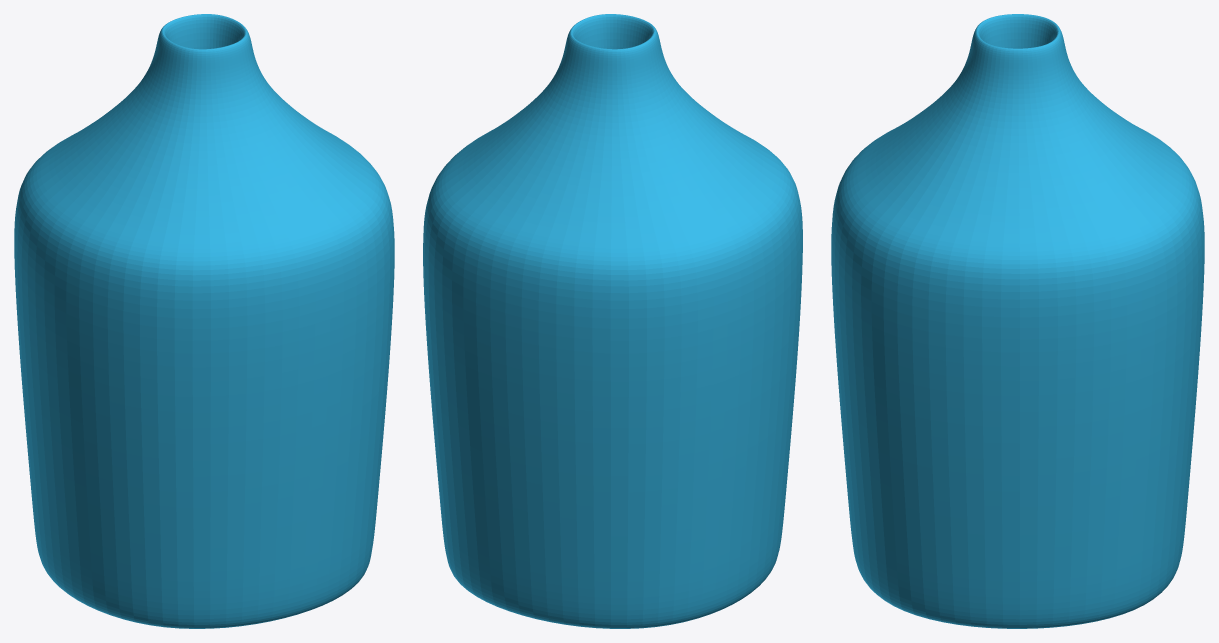
The model's file is jarra agua.fbx.
3 renders of one model, left to right at view 1: azimuth 30°, elevation 25°; view 2: azimuth 150°, elevation 25°; view 3: azimuth 270°, elevation 25°, orthographic.
Visible parts, largest first — view 1: Cube.046; view 2: Cube.046; view 3: Cube.046.
Part boxes in pixels (x1,y1,x2,y2): Cube.046: (14,14,394,628); Cube.046: (423,14,802,628); Cube.046: (831,14,1204,628).
Size of the model in its own units: 59.7 by 93.85 by 59.7.
